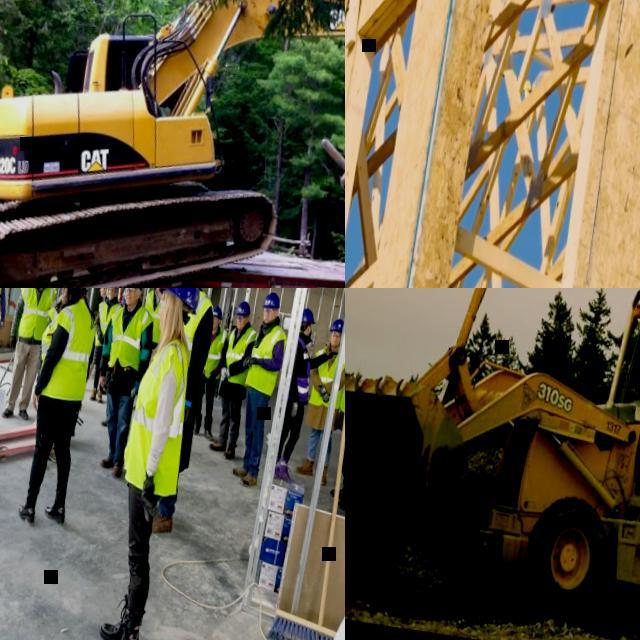helmet: (156, 288, 203, 314), (261, 289, 282, 309), (235, 298, 252, 316), (301, 306, 318, 323), (211, 303, 225, 320), (330, 316, 344, 332), (229, 303, 237, 310), (122, 288, 126, 300)
vest: (118, 330, 196, 496), (34, 292, 100, 402), (104, 298, 156, 371), (175, 288, 216, 372), (244, 320, 288, 397), (308, 343, 345, 408), (13, 288, 58, 341), (221, 322, 258, 386), (288, 334, 318, 404), (202, 324, 231, 380), (92, 298, 122, 348), (139, 288, 167, 341), (94, 298, 104, 334), (0, 288, 7, 328), (46, 304, 60, 320), (224, 312, 235, 331)
